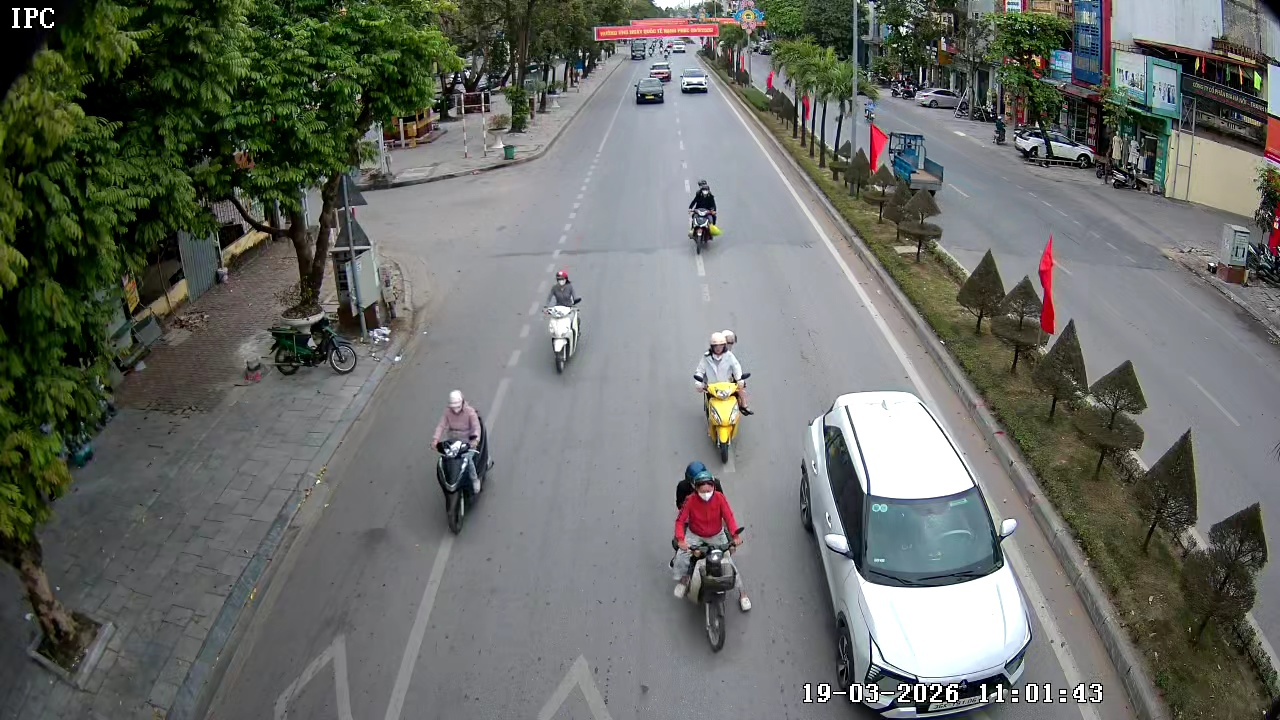car: (790, 389, 1075, 718), (631, 62, 672, 105), (679, 64, 712, 99)
motorbike: (665, 461, 754, 652), (430, 389, 493, 535), (691, 329, 756, 464), (259, 311, 366, 378), (539, 270, 585, 374), (685, 177, 721, 254)
